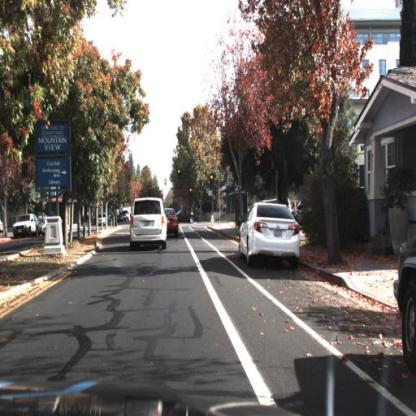car: (236, 200, 306, 273), (128, 193, 169, 253), (10, 212, 39, 243), (165, 205, 181, 241), (36, 216, 50, 237)
trafficLight-Red: (209, 172, 216, 195), (177, 168, 184, 185), (188, 187, 196, 200), (210, 174, 216, 188), (177, 169, 182, 182), (189, 188, 194, 201)
trafficLight-RedLeft: (147, 182, 155, 194), (147, 185, 152, 198)
